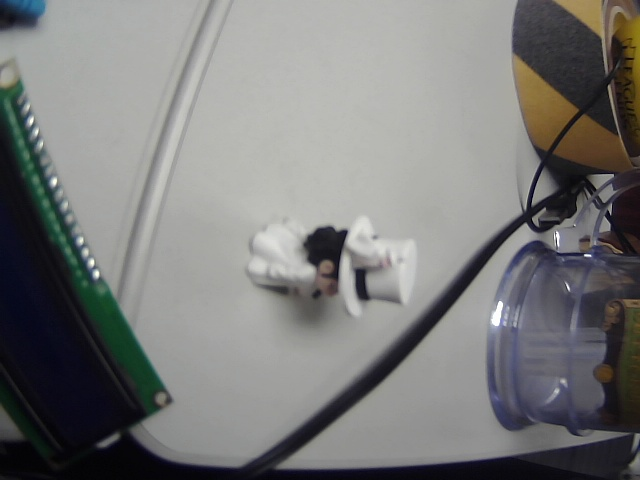lucci: (239, 208, 422, 328)
